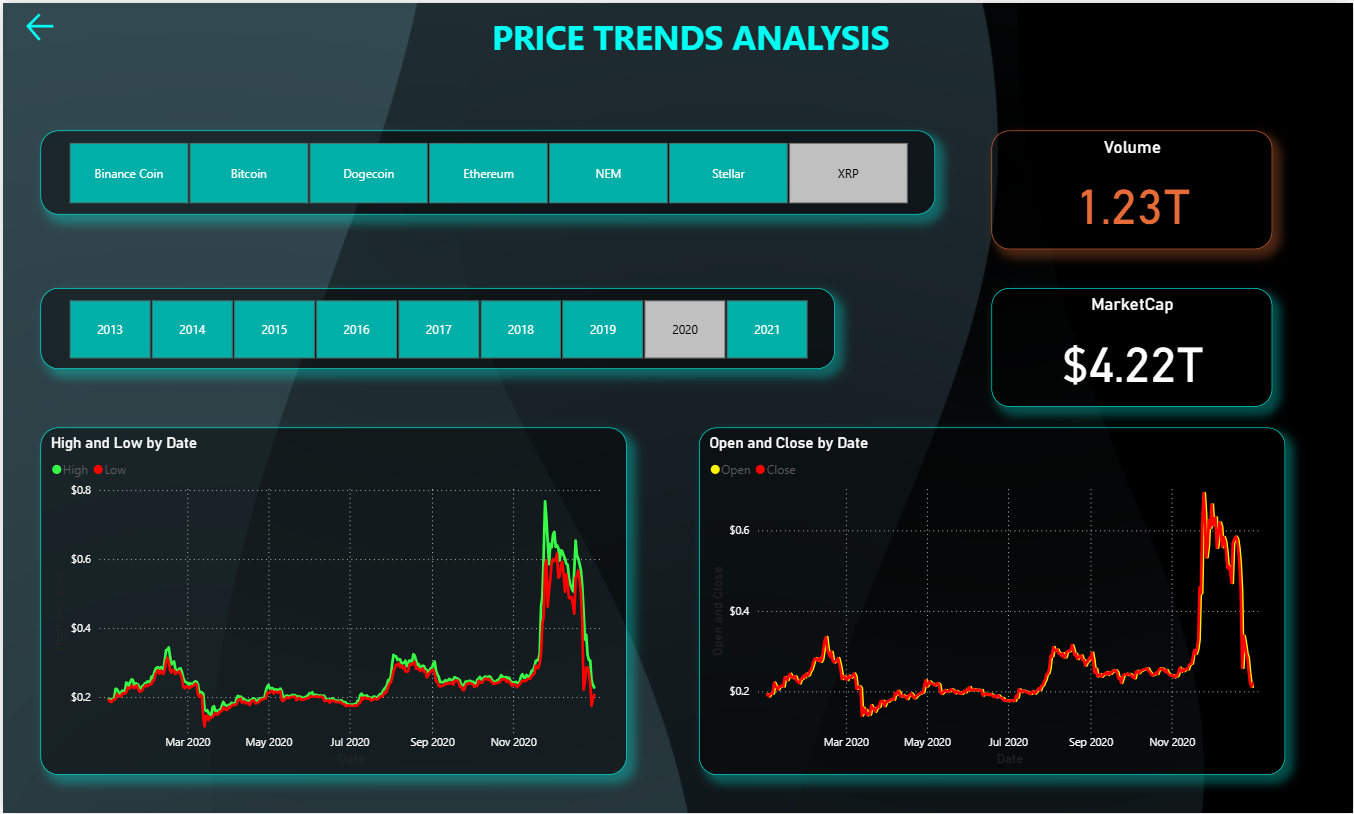

This screenshot's page, from the dashboard's own definition file:
{"tool":"powerbi","page":{"name":"Page 2","canvas":[1500,900],"ordinal":1},"visuals":[{"type":"slicer","fields":{"Values":["CryptoData_CSV.Name"]},"box":[41.8,141.5,993.8,93.3],"z":0},{"type":"slicer","fields":{"Values":["CryptoData_CSV.Year"]},"box":[41.8,316.8,882.8,90.1],"z":1000},{"type":"lineChart","fields":{"Category":["CryptoData_CSV.Date"],"Y":["Sum(CryptoData_CSV.High)","Sum(CryptoData_CSV.Low)"]},"box":[41.8,471.2,651.3,385.9],"z":2000},{"type":"actionButton","box":[20.9,6.4,41.8,40.2],"z":3000},{"type":"textbox","box":[538.7,6.4,749.4,64.3],"z":4000},{"type":"card","title":"MarketCap","fields":{"Values":["Sum(CryptoData_CSV.Marketcap)"]},"box":[1098.3,316.8,312,131.9],"z":5000},{"type":"card","title":"Volume","fields":{"Values":["Sum(CryptoData_CSV.Volume)"]},"box":[1098.3,141.5,312,131.9],"z":6000},{"type":"lineChart","fields":{"Category":["CryptoData_CSV.Date"],"Y":["Sum(CryptoData_CSV.Open)","Sum(CryptoData_CSV.Close)"]},"box":[773.5,471.2,651.3,385.9],"z":7000}]}

Visuals, with their boxes in screenshot pixels (x1, y1, x2, y2), scaled from the page's 1500x900 canvas onto the 1354x814 screenshot:
slicer - CryptoData_CSV.Name: crop(38, 128, 935, 212)
slicer - CryptoData_CSV.Year: crop(38, 287, 835, 368)
lineChart - CryptoData_CSV.Date x Sum(CryptoData_CSV.High): crop(38, 426, 626, 775)
actionButton: crop(19, 6, 57, 42)
textbox: crop(486, 6, 1163, 64)
"MarketCap" card: crop(991, 287, 1273, 406)
"Volume" card: crop(991, 128, 1273, 247)
lineChart - CryptoData_CSV.Date x Sum(CryptoData_CSV.Open): crop(698, 426, 1286, 775)
